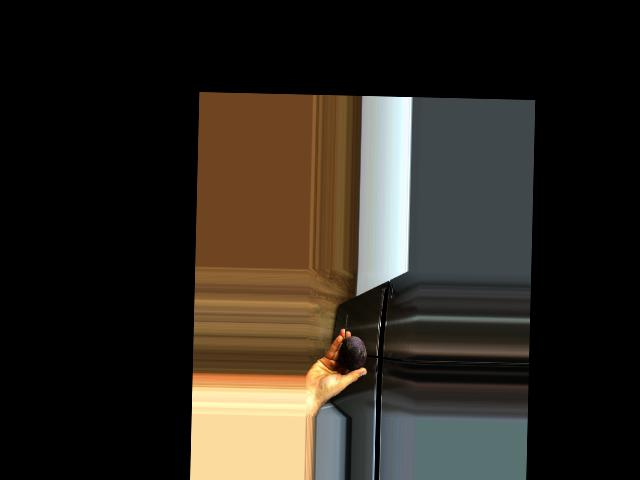beet: (339, 313, 367, 370)
